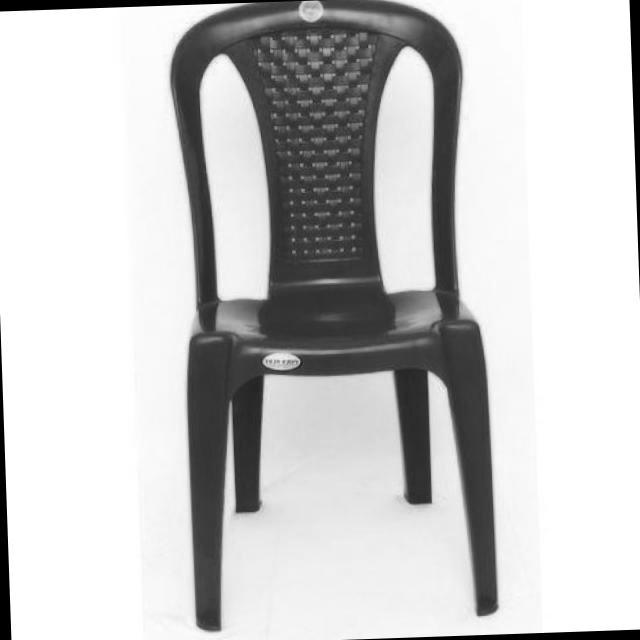chair: (165, 0, 503, 635)
